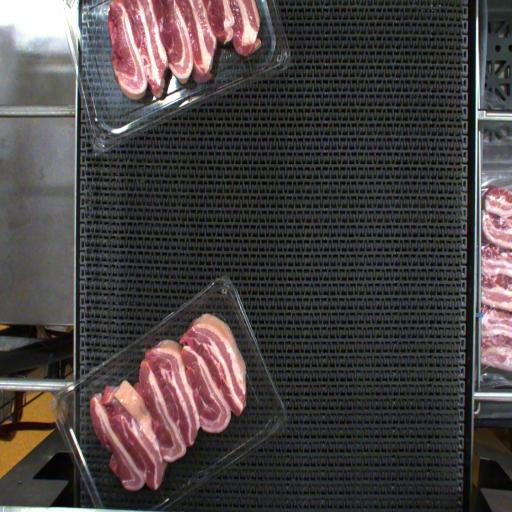twisted-meat: (112, 383, 164, 488)
